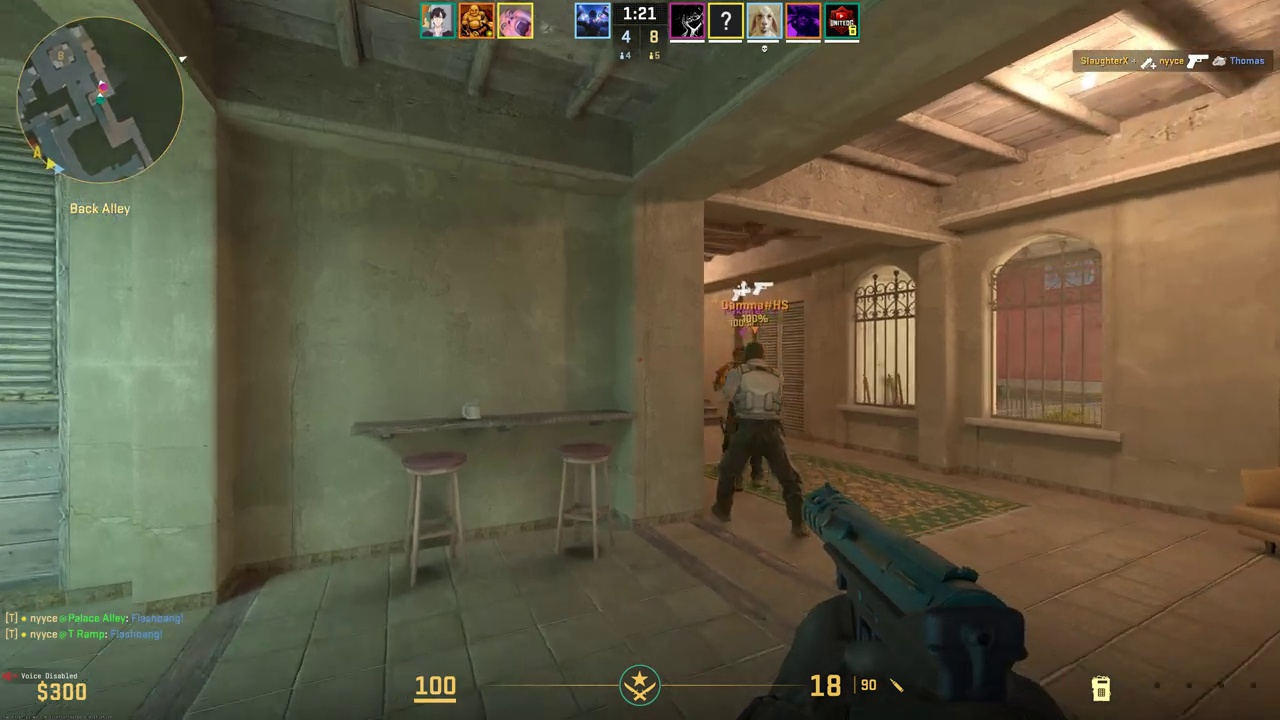Terrorist: (712, 342, 803, 535)
